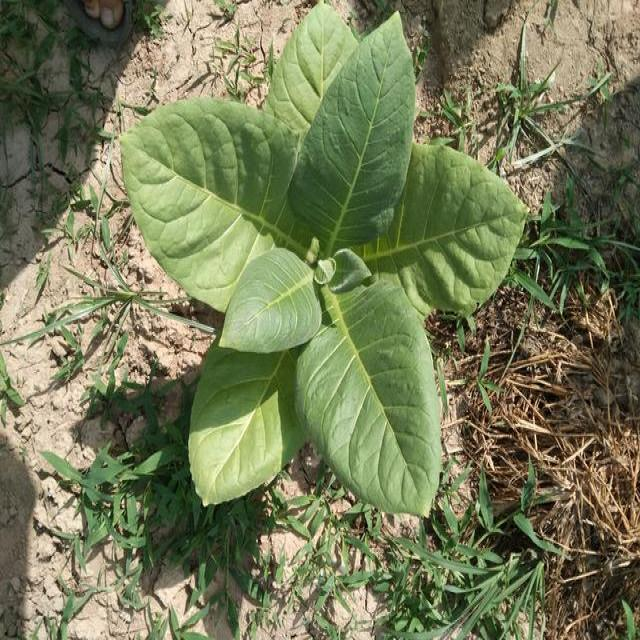crop: (116, 9, 534, 525)
